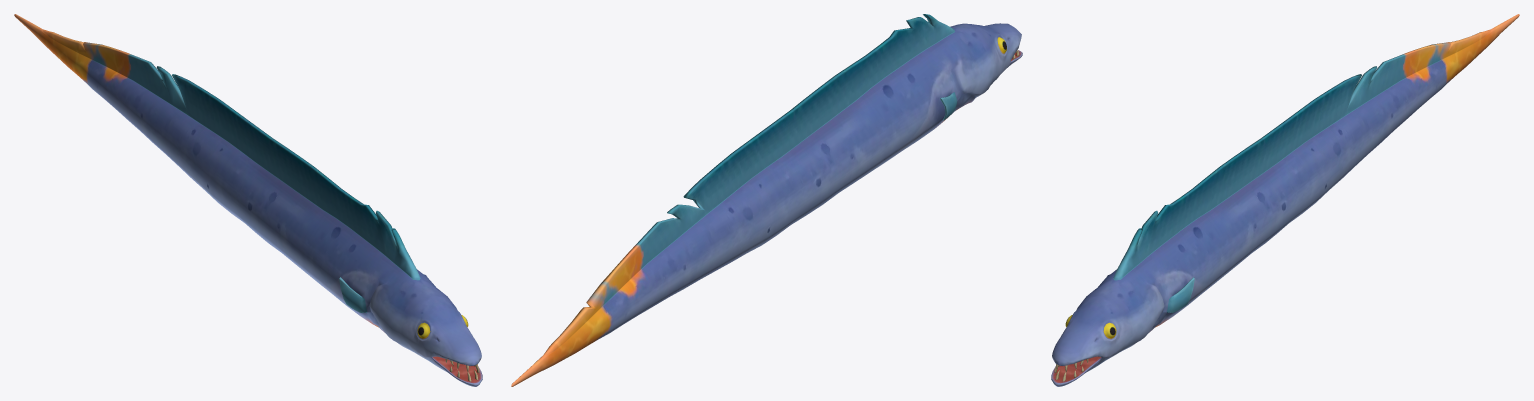
The picture shows the model from 3 angles, left to right: view 1: azimuth 30°, elevation 25°; view 2: azimuth 150°, elevation 25°; view 3: azimuth 330°, elevation 25°; orthographic projection. The views are drawn at different scales.
Parts seen in each view (by area): view 1: SM_Fish_BeltFish_01_LOD0; view 2: SM_Fish_BeltFish_01_LOD0; view 3: SM_Fish_BeltFish_01_LOD0.
Part boxes in pixels (x1=…): SM_Fish_BeltFish_01_LOD0: x1=14, y1=14, x2=482, y2=386; SM_Fish_BeltFish_01_LOD0: x1=511, y1=14, x2=1022, y2=386; SM_Fish_BeltFish_01_LOD0: x1=1051, y1=14, x2=1519, y2=386.
Size of the model in its own units: 0.0899 by 0.1253 by 0.9972.
Materials: 1 (1 with a texture image).
